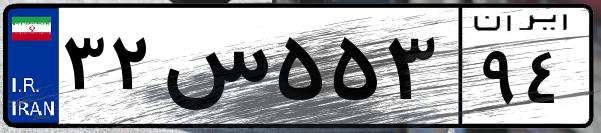2: (110, 28, 158, 98)
3: (385, 28, 445, 110), (57, 26, 110, 100)
4: (525, 38, 570, 115)
5: (270, 28, 330, 110), (330, 28, 385, 110)
9: (475, 38, 525, 113)
س: (158, 20, 270, 120)
